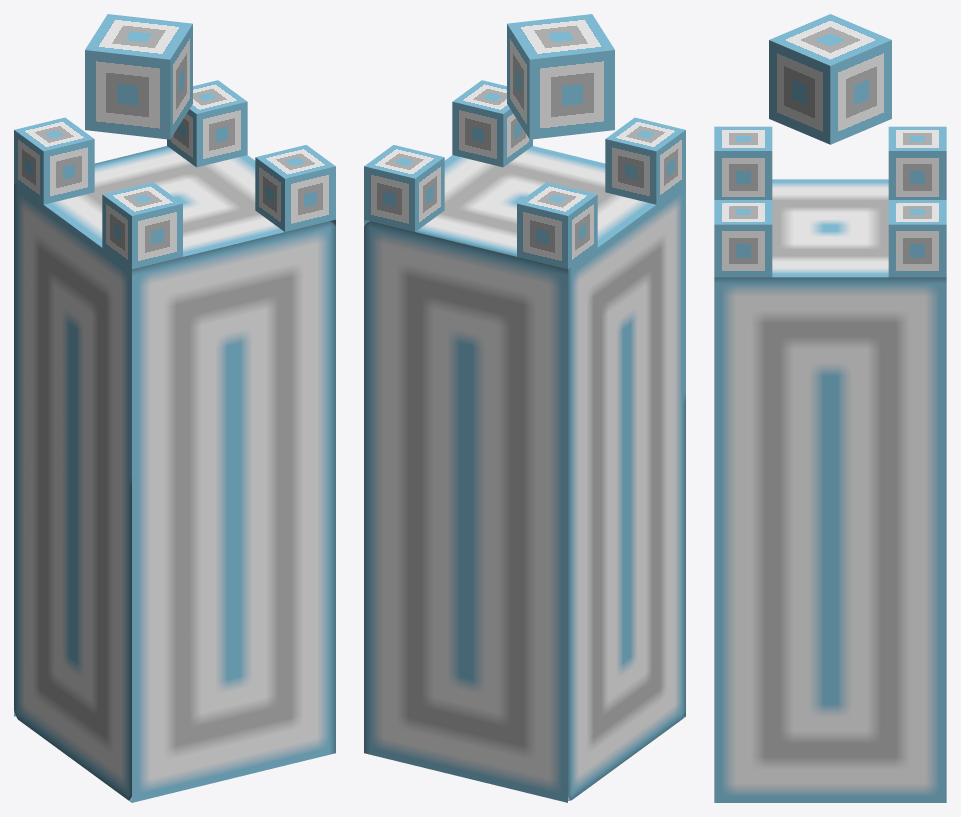
The model's file is Air Tower.fbx.
3 renders of one model, left to right at view 1: azimuth 30°, elevation 25°; view 2: azimuth 150°, elevation 25°; view 3: azimuth 270°, elevation 25°, orthographic.
Parts seen in each view (by area): view 1: Base, Rift, SW Corner, SE Corner, NE Corner, NW Corner; view 2: Base, Rift, SW Corner, SE Corner, NW Corner, NE Corner; view 3: Base, Rift, NE Corner, NW Corner, SW Corner, SE Corner.
Boxes of the visible parts, bbox=[...] form: Base: bbox=[14, 146, 335, 802]; Rift: bbox=[85, 14, 192, 139]; SW Corner: bbox=[14, 117, 94, 204]; SE Corner: bbox=[102, 182, 182, 269]; NE Corner: bbox=[255, 145, 335, 231]; NW Corner: bbox=[167, 80, 247, 167]; Base: bbox=[364, 146, 685, 802]; Rift: bbox=[507, 14, 614, 139]; SW Corner: bbox=[517, 182, 597, 269]; SE Corner: bbox=[605, 117, 685, 204]; NW Corner: bbox=[364, 145, 444, 231]; NE Corner: bbox=[452, 80, 532, 167]; Base: bbox=[714, 179, 946, 802]; Rift: bbox=[769, 14, 891, 144]; NE Corner: bbox=[714, 200, 772, 277]; NW Corner: bbox=[888, 200, 946, 277]; SW Corner: bbox=[888, 126, 946, 199]; SE Corner: bbox=[714, 126, 772, 199].
Size of the model in its own units: 25 by 82.81 by 25.
3 materials, 3 textured.
